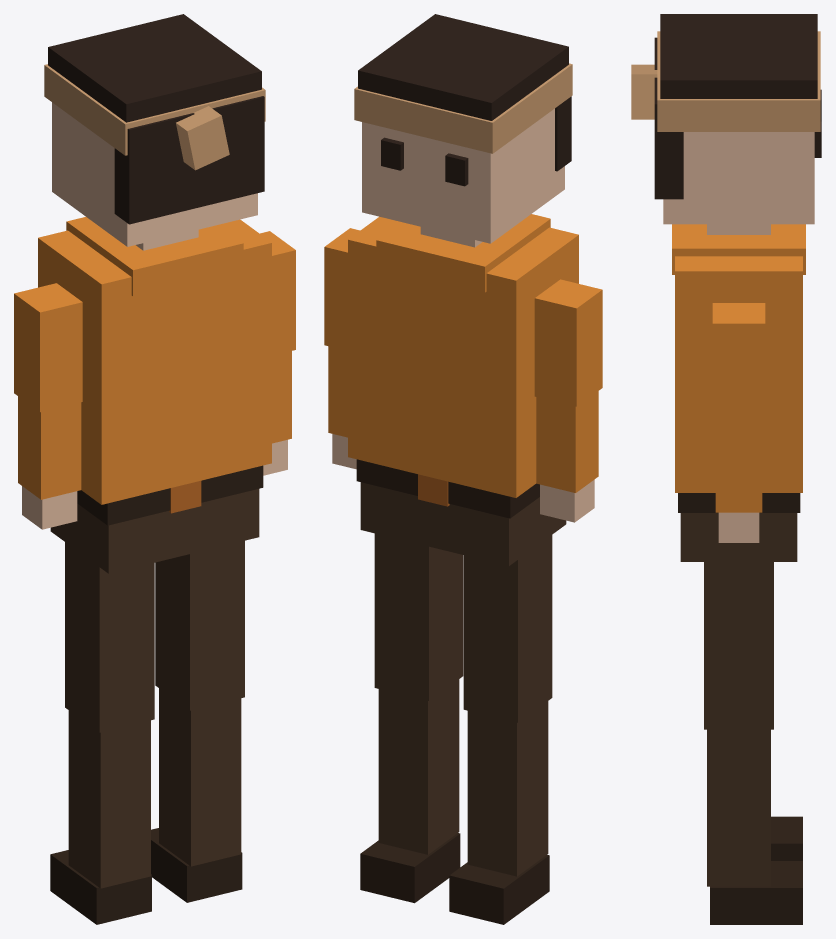
Rendered from avatar_robber.glb.
The picture shows the model from 3 angles, left to right: view 1: azimuth 30°, elevation 25°; view 2: azimuth 150°, elevation 25°; view 3: azimuth 270°, elevation 25°; orthographic projection.
Parts seen in each view (by area): view 1: chest_mesh, leg_upper_mesh_R, hair_top, leg_upper_mesh_L, leg_lower_mesh_L, leg_lower_mesh_R, hair_back, pelvis_mesh, head_mesh, arm_upper_mesh_R, collar_mesh, arm_lower_mesh_R (+10 smaller); view 2: chest_mesh, head_mesh, leg_upper_mesh_R, hair_top, leg_upper_mesh_L, leg_lower_mesh_R, leg_lower_mesh_L, pelvis_mesh, arm_upper_mesh_R, bandana_front, collar_mesh, arm_lower_mesh_R (+11 smaller); view 3: chest_mesh, hair_top, head_mesh, leg_upper_mesh_L, leg_lower_mesh_L, arm_upper_mesh_L, bandana_front, pelvis_mesh, foot_L, arm_lower_mesh_L, collar_mesh, hair_back (+5 smaller).
Boxes of the visible parts, x1=… form: chest_mesh: x1=38, y1=219, x2=271, y2=504; leg_upper_mesh_R: x1=65, y1=542, x2=154, y2=732; hair_top: x1=48, y1=14, x2=261, y2=122; leg_upper_mesh_L: x1=155, y1=540, x2=244, y2=710; leg_lower_mesh_L: x1=159, y1=688, x2=241, y2=866; leg_lower_mesh_R: x1=68, y1=710, x2=150, y2=888; hair_back: x1=114, y1=96, x2=264, y2=224; pelvis_mesh: x1=50, y1=489, x2=259, y2=573; head_mesh: x1=52, y1=102, x2=257, y2=246; arm_upper_mesh_R: x1=14, y1=283, x2=82, y2=412; collar_mesh: x1=66, y1=217, x2=243, y2=296; arm_lower_mesh_R: x1=18, y1=396, x2=81, y2=499; chest_mesh: x1=348, y1=216, x2=578, y2=497; head_mesh: x1=362, y1=108, x2=564, y2=243; leg_upper_mesh_R: x1=463, y1=535, x2=552, y2=722; hair_top: x1=358, y1=14, x2=568, y2=120; leg_upper_mesh_L: x1=374, y1=533, x2=463, y2=700; leg_lower_mesh_R: x1=467, y1=701, x2=548, y2=876; leg_lower_mesh_L: x1=378, y1=679, x2=459, y2=854; pelvis_mesh: x1=360, y1=482, x2=566, y2=565; arm_upper_mesh_R: x1=534, y1=279, x2=602, y2=406; bandana_front: x1=354, y1=63, x2=572, y2=153; collar_mesh: x1=376, y1=214, x2=550, y2=292; arm_lower_mesh_R: x1=536, y1=391, x2=598, y2=492; chest_mesh: x1=675, y1=256, x2=802, y2=492; hair_top: x1=660, y1=14, x2=817, y2=98; head_mesh: x1=663, y1=132, x2=814, y2=224; leg_upper_mesh_L: x1=704, y1=562, x2=773, y2=729; leg_lower_mesh_L: x1=707, y1=729, x2=770, y2=886; arm_upper_mesh_L: x1=712, y1=303, x2=765, y2=423; bandana_front: x1=657, y1=31, x2=820, y2=131; pelvis_mesh: x1=680, y1=513, x2=797, y2=561; foot_L: x1=710, y1=861, x2=802, y2=924; arm_lower_mesh_L: x1=715, y1=424, x2=762, y2=512; collar_mesh: x1=672, y1=224, x2=805, y2=274; hair_back: x1=654, y1=37, x2=683, y2=199.
Bounding box in the file's own units: 0.51 × 1.6 × 0.327.
